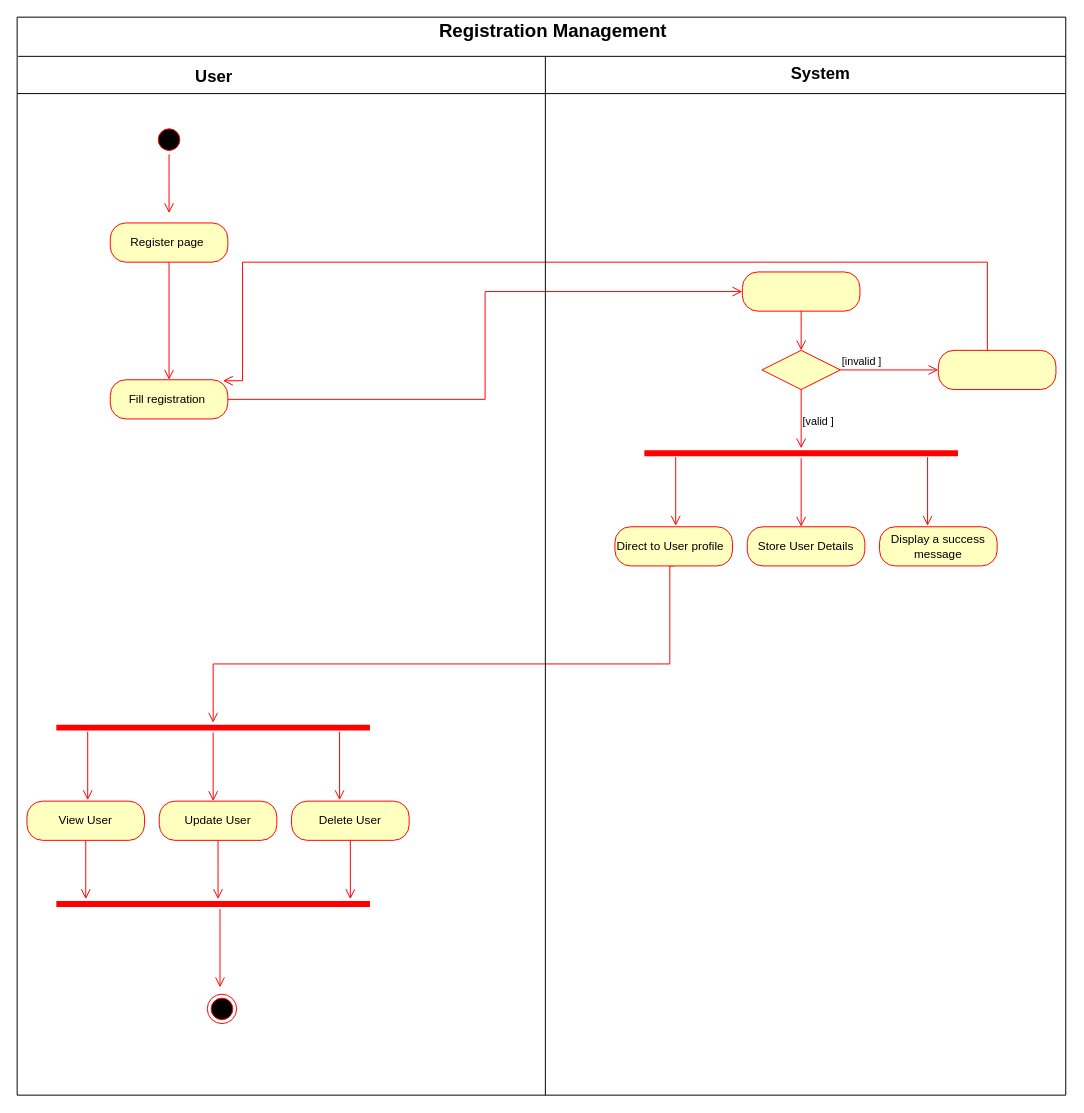
This 1084x1113 diagram has some shape labels left out. Here are the shapes that lost their labels. From the top down, the centre of each, then its label:
At (800,291): "Validate the Details".
At (996,369): "Display an Error Message".
